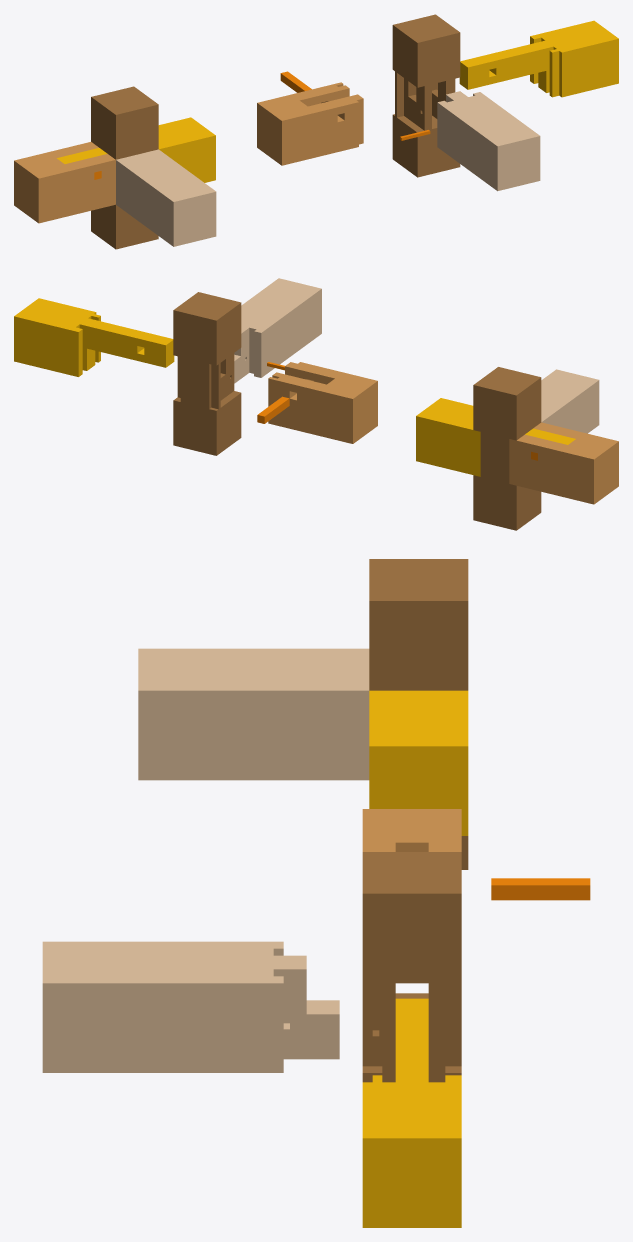
The picture shows the model from 3 angles, top to bottom: view 1: azimuth 30°, elevation 25°; view 2: azimuth 150°, elevation 25°; view 3: azimuth 270°, elevation 25°; orthographic projection. The views are drawn at different scales.
Size of the model in its own units: 40.5 by 9 by 16.6.
